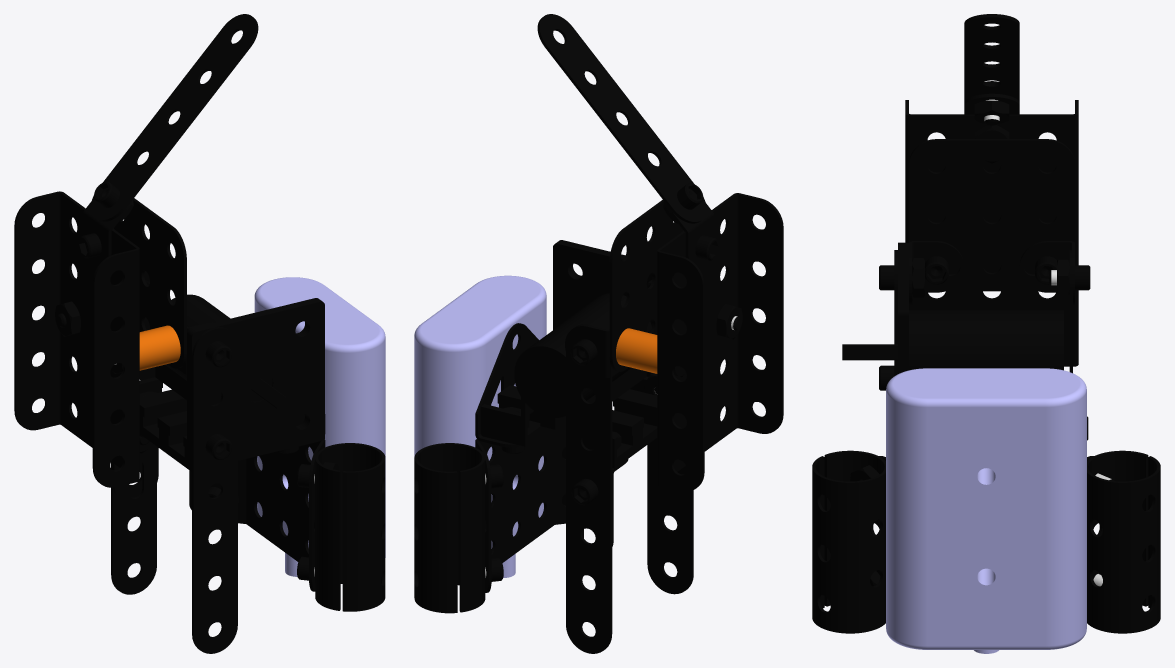
3 renders of one model, left to right at view 1: azimuth 30°, elevation 25°; view 2: azimuth 150°, elevation 25°; view 3: azimuth 270°, elevation 25°, orthographic. The views are drawn at different scales.
Parts seen in each view (by area): view 1: matte zinc, polished nickel, cast iron, white-pw-mt11050, matte zinc-4, white-pw-mt11050-2, polished bronze; view 2: matte zinc, polished nickel, cast iron, white-pw-mt11050, matte zinc-4, white-pw-mt11050-2; view 3: white-pw-mt11050, matte zinc, polished nickel, cast iron, polished bronze.
Part boxes in pixels (<box>): matte zinc: <box>55,14,385,653</box>; polished nickel: <box>14,191,186,487</box>; cast iron: <box>139,294,324,471</box>; white-pw-mt11050: <box>254,277,385,576</box>; matte zinc-4: <box>211,440,325,591</box>; white-pw-mt11050-2: <box>139,325,180,370</box>; polished bronze: <box>251,378,289,409</box>; matte zinc: <box>414,14,742,653</box>; polished nickel: <box>609,193,783,491</box>; cast iron: <box>480,240,657,468</box>; white-pw-mt11050: <box>414,275,546,577</box>; matte zinc-4: <box>475,422,565,592</box>; white-pw-mt11050-2: <box>616,328,657,373</box>; white-pw-mt11050: <box>886,368,1086,653</box>; matte zinc: <box>812,14,1160,633</box>; polished nickel: <box>905,100,1078,366</box>; cast iron: <box>898,242,1063,373</box>; polished bronze: <box>842,344,897,360</box>.
Size of the model in its own units: 8.49 by 16.01 by 7.99.
